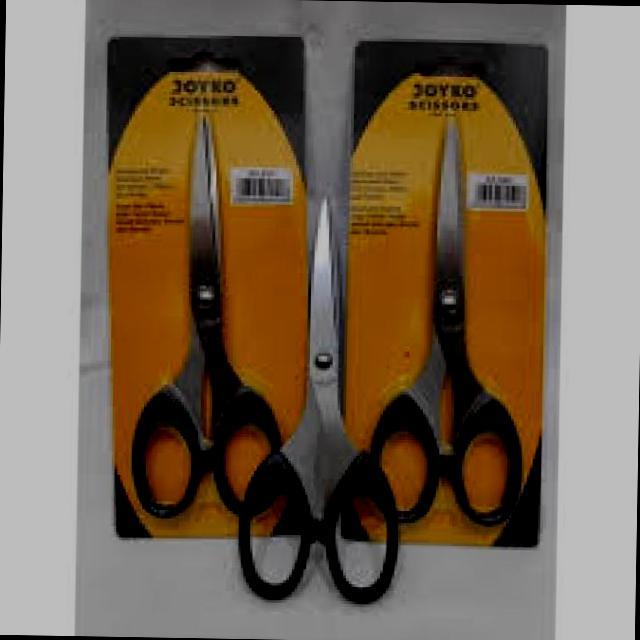Scissors: (362, 86, 546, 546), (114, 73, 290, 550), (231, 189, 413, 613)
